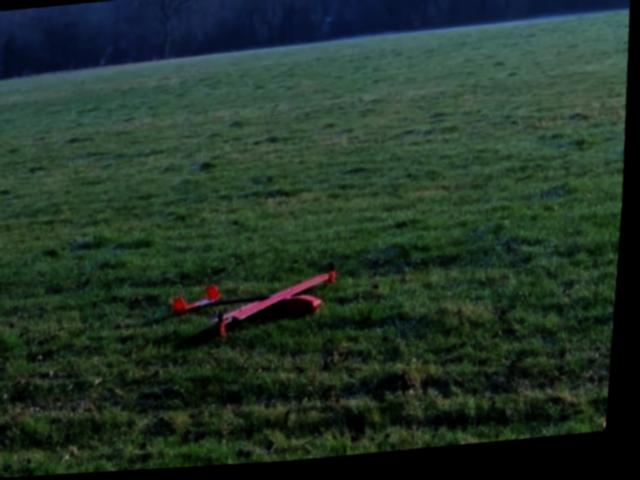uav: (170, 267, 345, 352)
